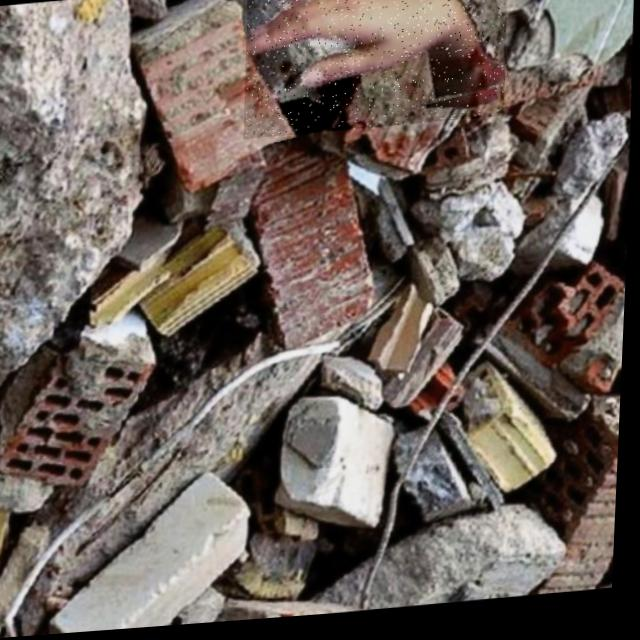Person in Rubble: (241, 0, 509, 143)
